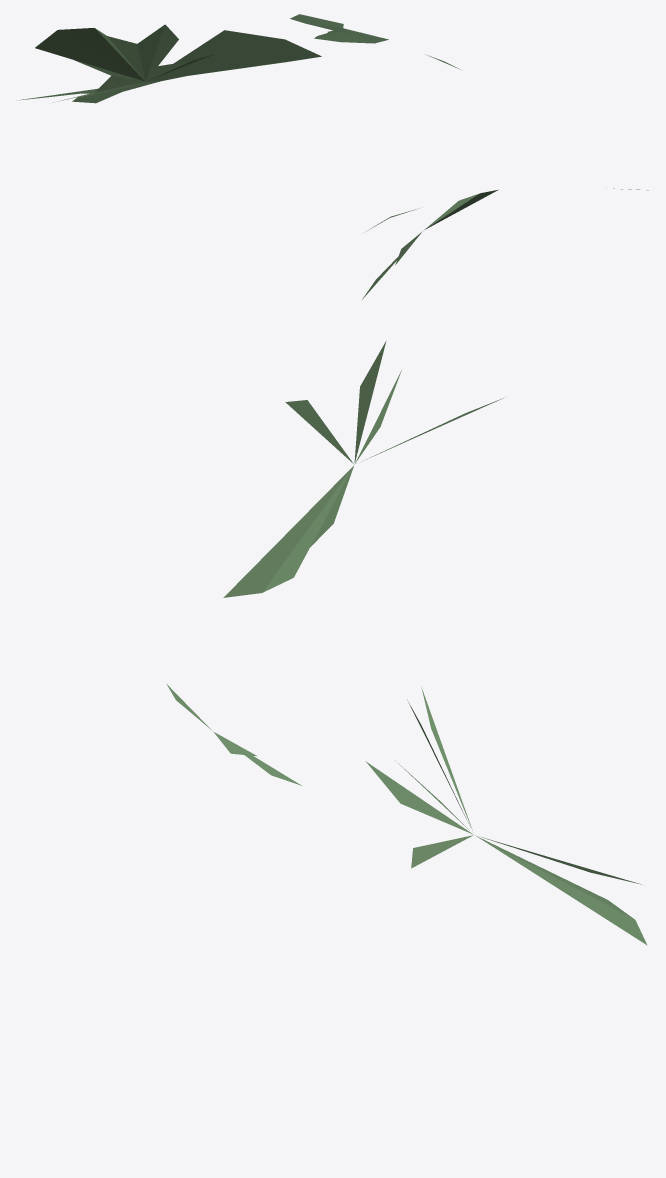
The model's file is c_1667_17819_forest.glb.
3 renders of one model, top to bottom at view 1: azimuth 30°, elevation 25°; view 2: azimuth 150°, elevation 25°; view 3: azimuth 270°, elevation 25°, orthographic. The views are drawn at different scales.
Visible parts, largest first — view 1: geometry_0; view 2: geometry_0; view 3: geometry_0.
Boxes of the visible parts, x1,y1,x2,y2 form: geometry_0: [16, 14, 460, 103]; geometry_0: [223, 188, 648, 597]; geometry_0: [166, 684, 647, 945].
Bounding box in the file's own units: 270 × 135 × 270.
